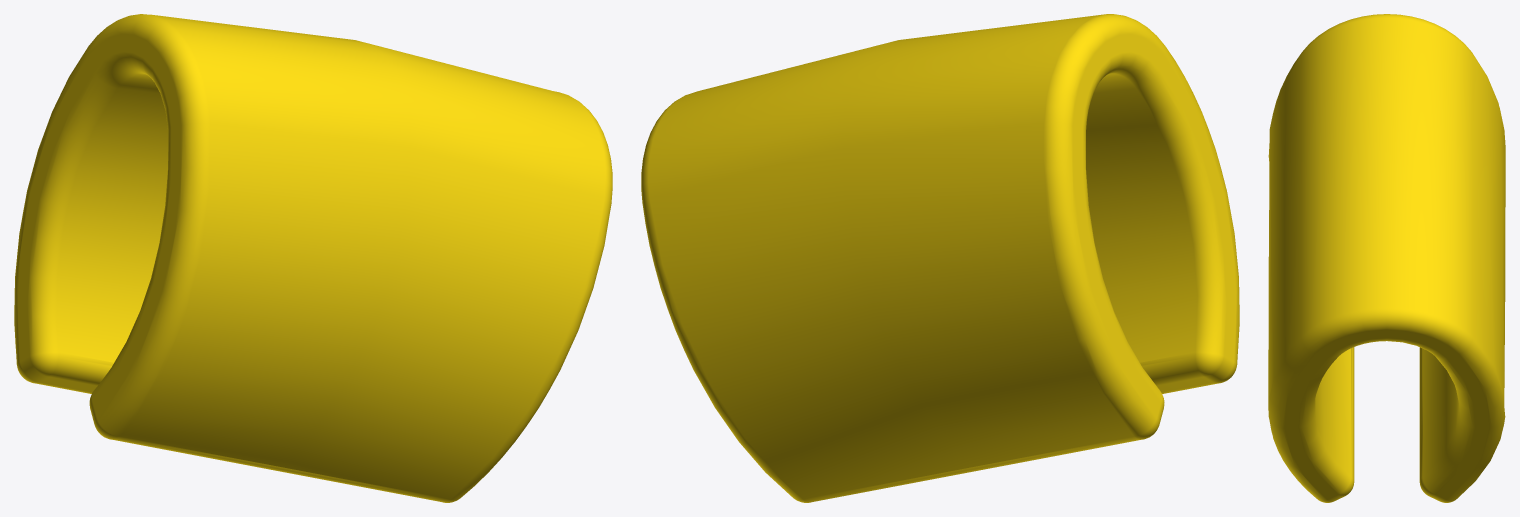
File: _60355K291_Steel_Ball_Bearing_6.gltf
3 views of the same model, side by side, from view 1: azimuth 30°, elevation 25°; view 2: azimuth 150°, elevation 25°; view 3: azimuth 270°, elevation 25° (orthographic). The views are drawn at different scales.
Parts seen in each view (by area): view 1: mesh51760, mesh51757, mesh51764, mesh51758, mesh51766, mesh51763, mesh51754, mesh51759, mesh51761, mesh51765, mesh51753, mesh51755 (+1 smaller); view 2: mesh51748, mesh51757, mesh51778, mesh51753, mesh51766, mesh51772, mesh51754, mesh51744, mesh51746, mesh51765, mesh51758, mesh51777 (+1 smaller); view 3: mesh51757, mesh51748, mesh51760, mesh51769, mesh51747, mesh51778, mesh51764, mesh51759, mesh51744, mesh51756, mesh51775, mesh51754 (+3 smaller).
Boxes of the visible parts, left/top/right/bottom form: mesh51760: left=120, top=123, right=604, bottom=499; mesh51757: left=153, top=15, right=605, bottom=197; mesh51764: left=57, top=88, right=167, bottom=362; mesh51758: left=97, top=123, right=209, bottom=436; mesh51766: left=17, top=34, right=181, bottom=417; mesh51763: left=27, top=71, right=117, bottom=355; mesh51754: left=87, top=14, right=209, bottom=125; mesh51759: left=451, top=198, right=611, bottom=499; mesh51761: left=113, top=436, right=450, bottom=502; mesh51765: left=94, top=52, right=171, bottom=128; mesh51753: left=14, top=47, right=87, bottom=364; mesh51755: left=50, top=352, right=113, bottom=385; mesh51748: left=649, top=123, right=1133, bottom=499; mesh51757: left=648, top=14, right=1104, bottom=197; mesh51778: left=1086, top=88, right=1197, bottom=362; mesh51753: left=1043, top=123, right=1156, bottom=436; mesh51766: left=1073, top=34, right=1236, bottom=417; mesh51772: left=1136, top=71, right=1226, bottom=355; mesh51754: left=1044, top=14, right=1166, bottom=125; mesh51744: left=642, top=198, right=802, bottom=499; mesh51746: left=803, top=436, right=1140, bottom=502; mesh51765: left=1082, top=52, right=1159, bottom=129; mesh51758: left=1166, top=47, right=1239, bottom=364; mesh51777: left=1140, top=352, right=1203, bottom=385; mesh51757: left=1301, top=18, right=1472, bottom=336; mesh51748: left=1473, top=56, right=1505, bottom=392; mesh51760: left=1268, top=56, right=1300, bottom=405; mesh51769: left=1284, top=330, right=1489, bottom=499; mesh51747: left=1301, top=307, right=1472, bottom=353; mesh51778: left=1315, top=348, right=1351, bottom=475; mesh51764: left=1422, top=349, right=1459, bottom=475; mesh51759: left=1268, top=337, right=1326, bottom=500; mesh51744: left=1447, top=337, right=1505, bottom=500; mesh51756: left=1422, top=357, right=1475, bottom=494; mesh51775: left=1298, top=357, right=1351, bottom=494; mesh51754: left=1301, top=14, right=1472, bottom=54.
Size of the model in its own units: 0.00292 by 0.0027 by 0.00147.
